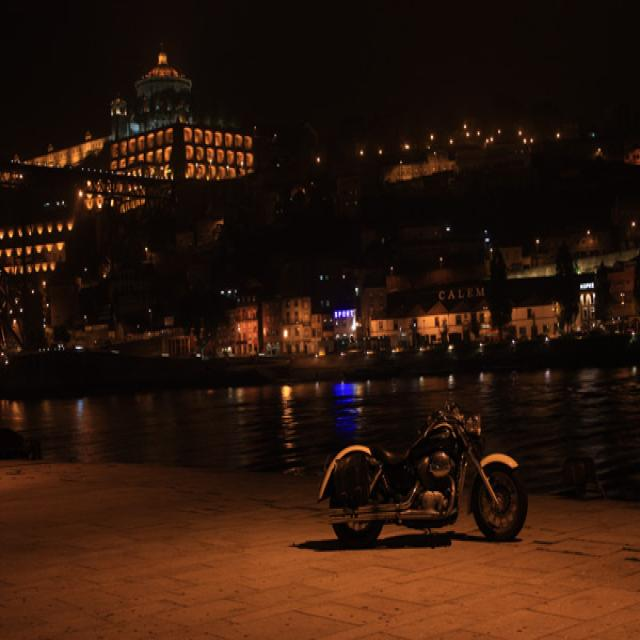Motorbike: (331, 403, 523, 568)
